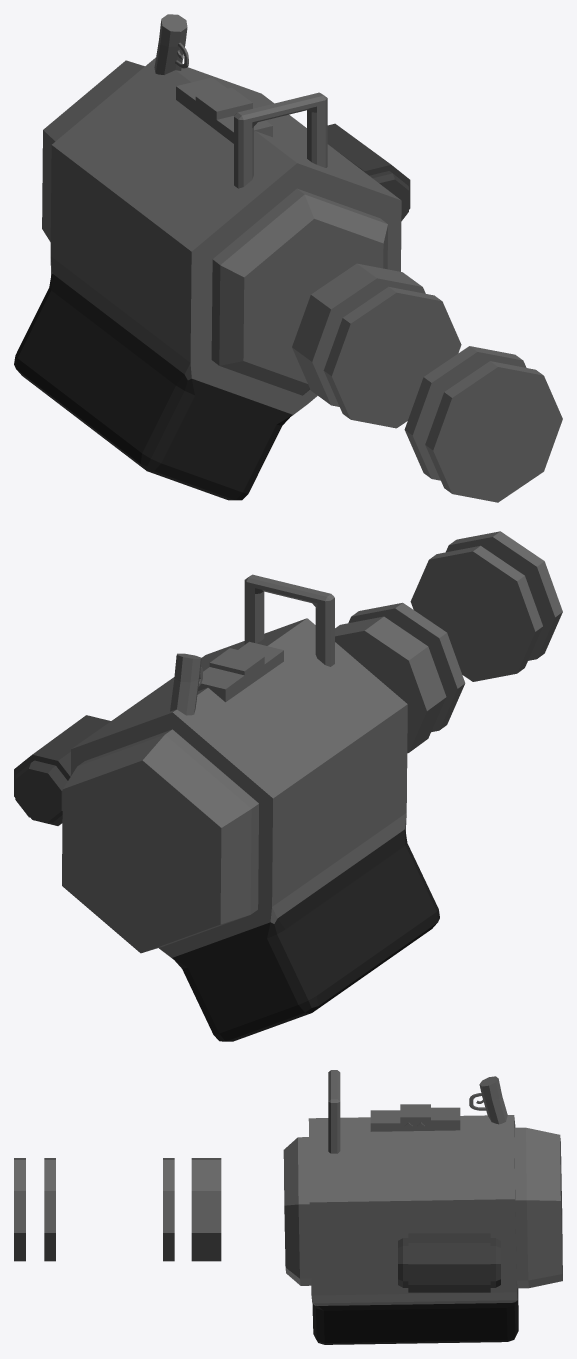
The model's file is minigun.obj.
The picture shows the model from 3 angles, top to bottom: view 1: azimuth 30°, elevation 25°; view 2: azimuth 150°, elevation 25°; view 3: azimuth 270°, elevation 25°; orthographic projection. The views are drawn at different scales.
Size of the model in its own units: 4.29 by 4.84 by 8.5.
